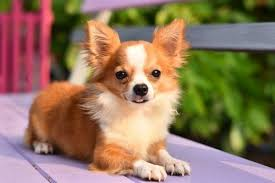Chihuahua: (21, 15, 197, 181)
